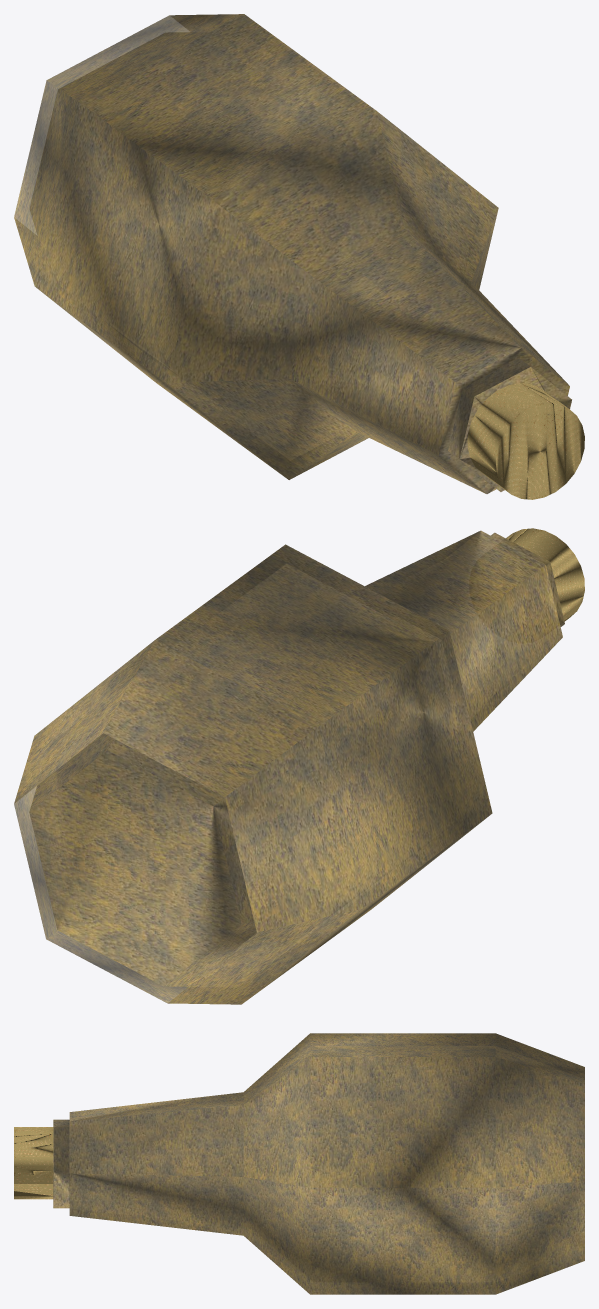
Rendered from model_align.obj.
3 renders of one model, top to bottom at view 1: azimuth 30°, elevation 25°; view 2: azimuth 150°, elevation 25°; view 3: azimuth 270°, elevation 25°, orthographic. The views are drawn at different scales.
Size of the model in its own units: 0.1141 by 0.1143 by 0.2424.
